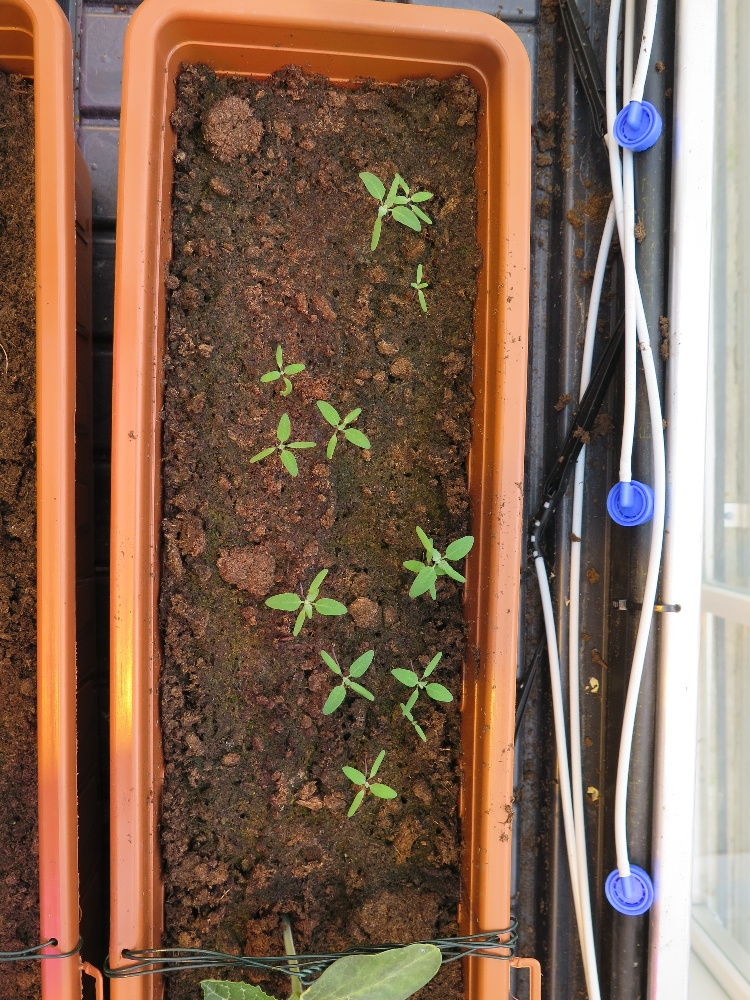weed: (300, 639, 445, 736), (394, 506, 482, 621), (233, 403, 330, 506), (351, 160, 448, 260), (266, 557, 366, 648), (324, 745, 418, 824), (306, 387, 382, 463), (400, 630, 460, 715), (379, 236, 448, 309), (257, 327, 324, 400)
